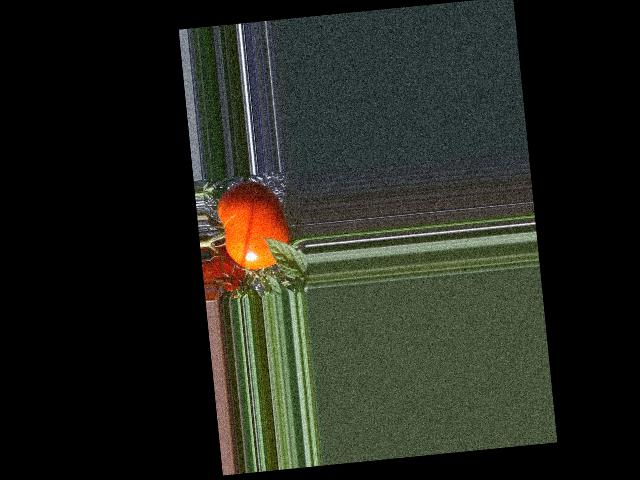tomato: (215, 178, 293, 273)
